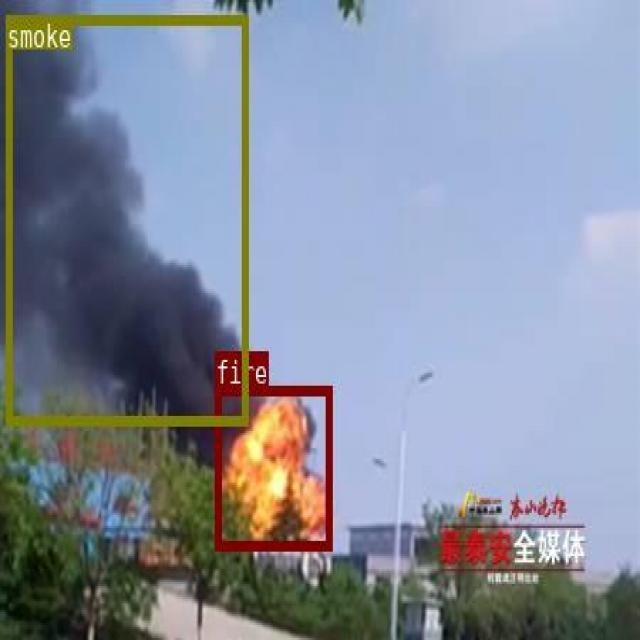fire: (215, 384, 331, 548)
smoke: (5, 14, 247, 423)
